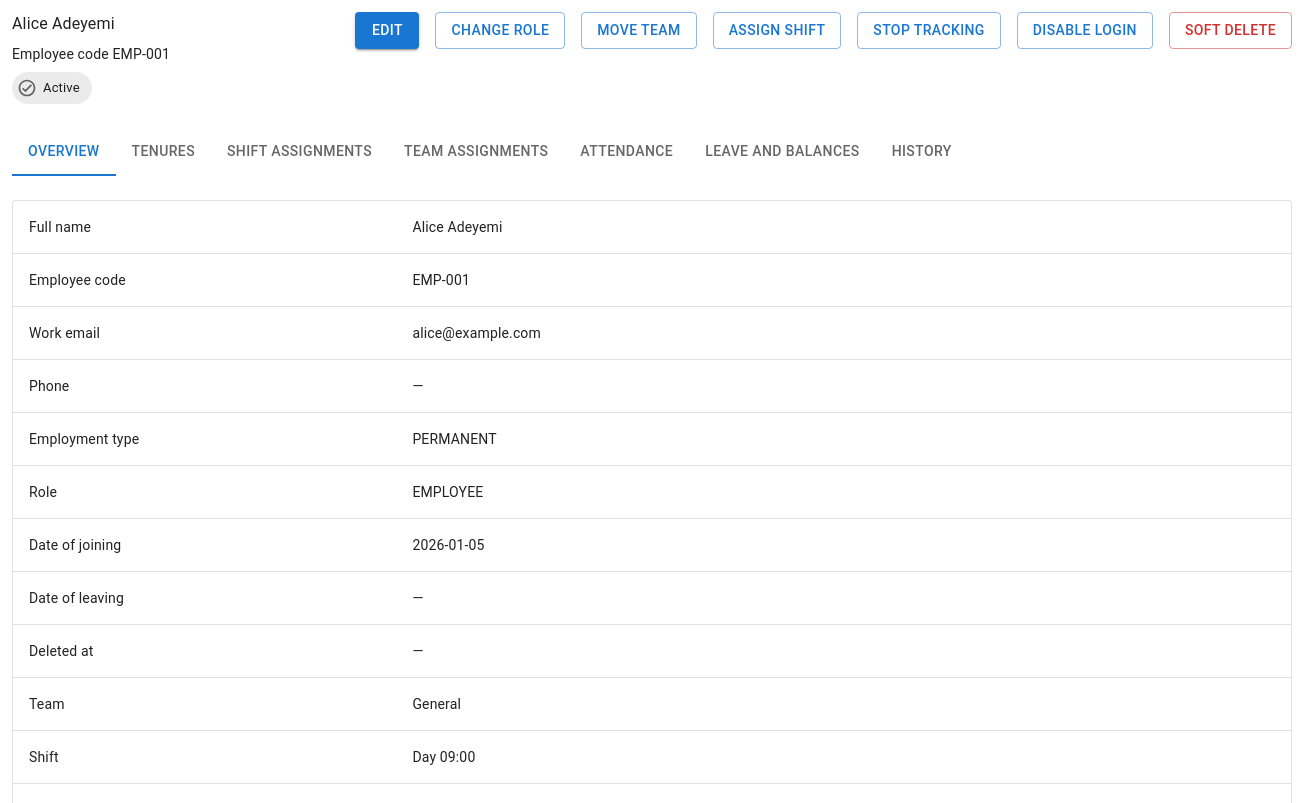
UserDetail › disables soft deleting the only tenure a user has
The width and height of the screenshot is (1304, 803).
Click the tab "Tenures" at (163, 152), box [116,128,211,176]
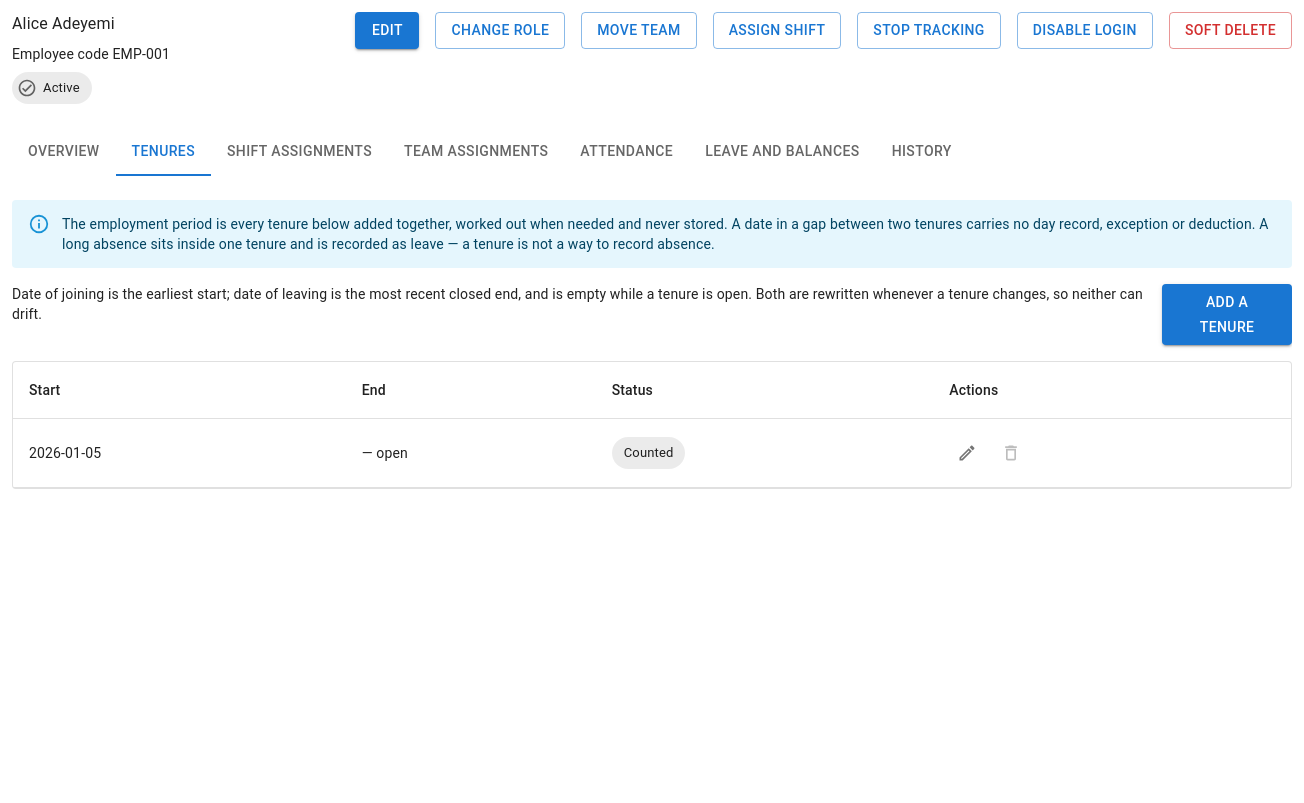
Now the button named "soft delete the tenure starting 2026-01-05" is disabled, box [993,435,1029,471]
